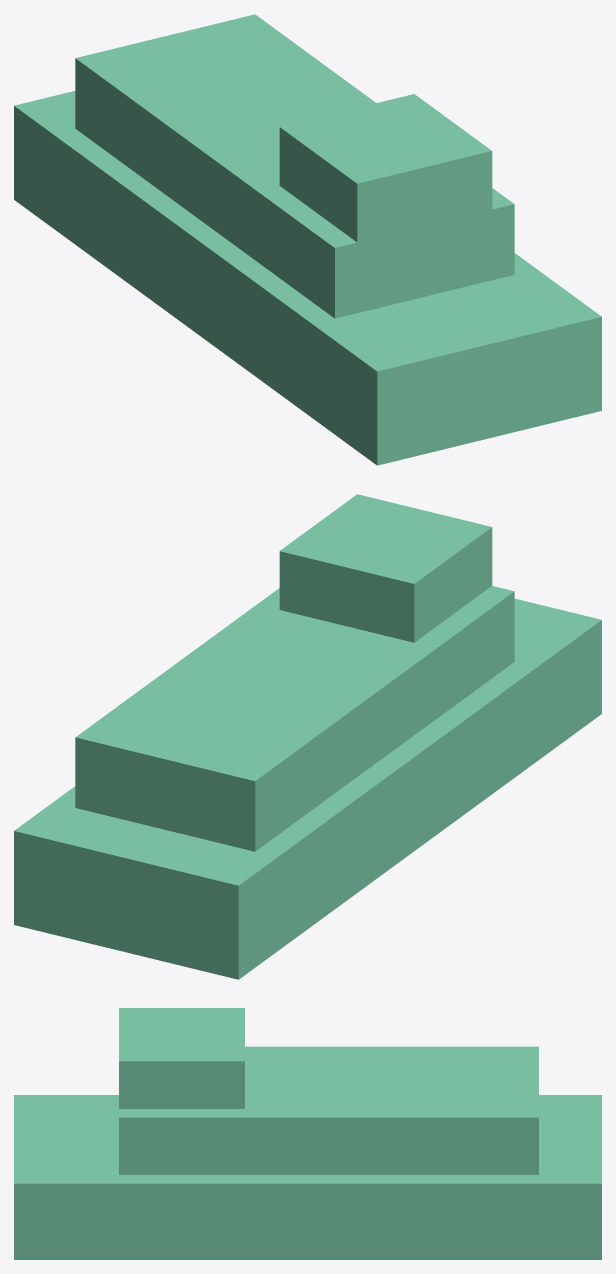
Rendered from ferry.glb.
3 renders of one model, top to bottom at view 1: azimuth 30°, elevation 25°; view 2: azimuth 150°, elevation 25°; view 3: azimuth 270°, elevation 25°, orthographic. The views are drawn at different scales.
Parts seen in each view (by area): view 1: world; view 2: world; view 3: world.
Part boxes in pixels (box(x1,y1,x2,y2)): world: box(14, 14, 601, 465); world: box(14, 494, 601, 979); world: box(14, 1008, 601, 1259).
Bounding box in the file's own units: 5 × 4.75 × 14.
